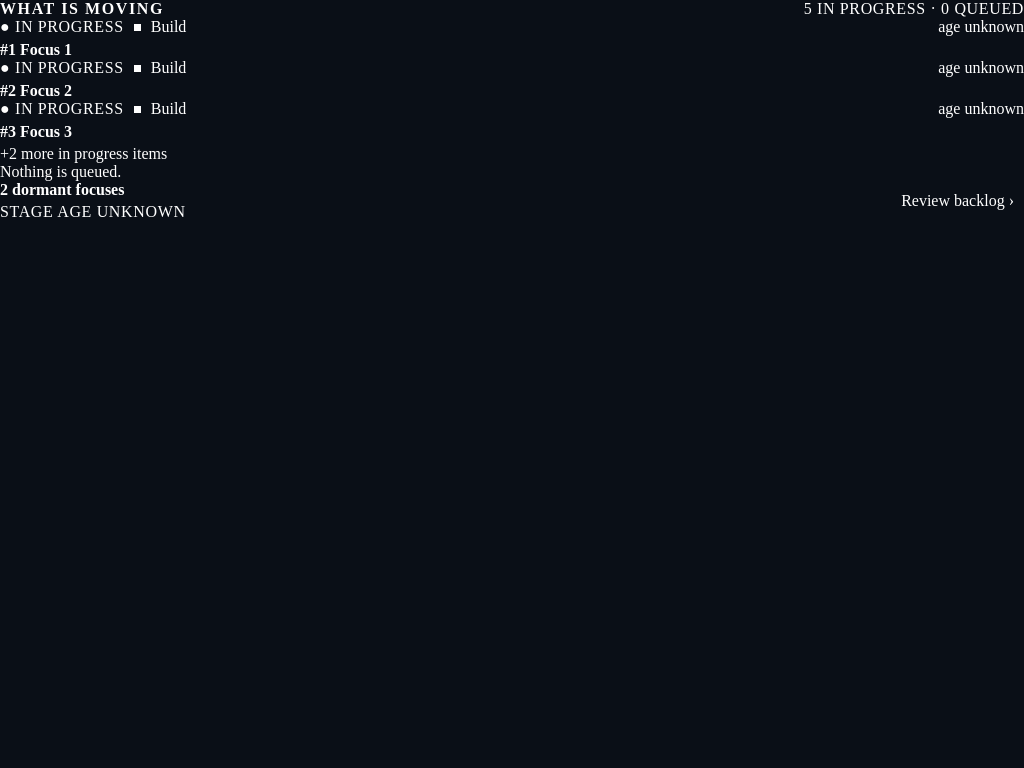
it: dashboard v2 Needs You and Moving bands › caps active rows, keeps unknown stage age honest, and opens the full dormant backlog
expect the text "#1 Focus 1" is shown 3 times: met, box [0,41,72,58]; [0,82,72,99]; [0,123,72,140]
expect the text "+2 more in progress items" is shown: met, box [0,145,167,162]
Click the button "Review backlog ›" at (958, 201), box [891,185,1023,217]
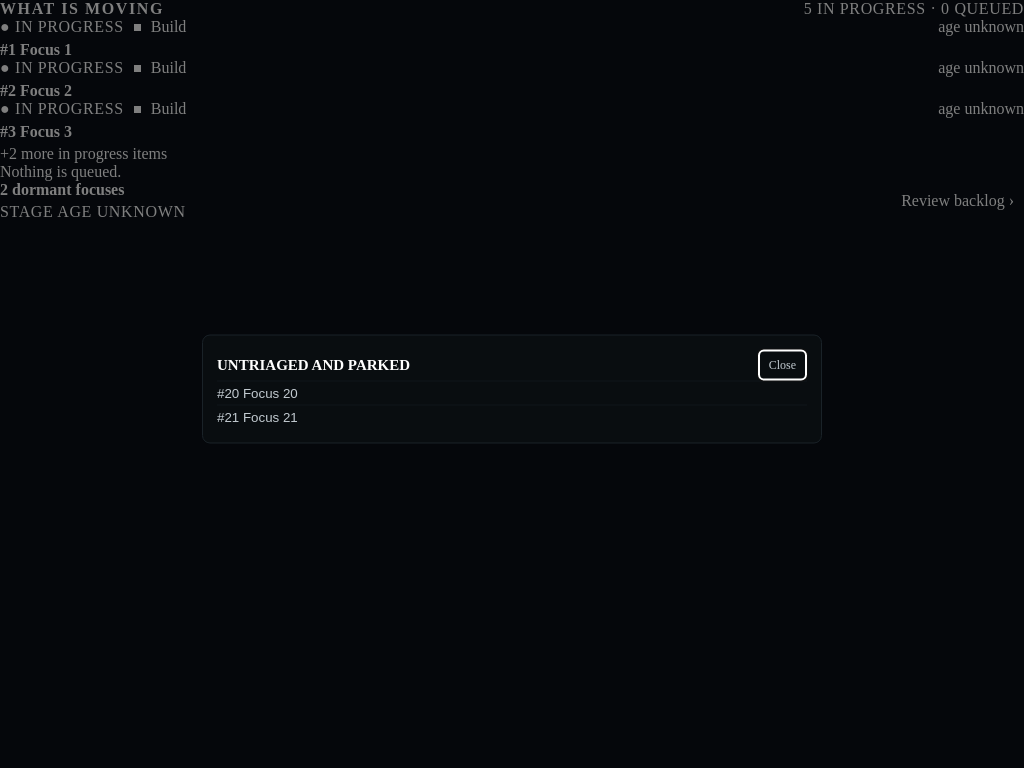
expect the dialog with test id "dashboard-dormant-sheet" is shown: met, box [202,324,822,444]
expect the button "#20 Focus 20" is shown: met, box [217,380,807,404]
expect the button "#21 Focus 21" is shown: met, box [217,404,807,428]
Press Escape
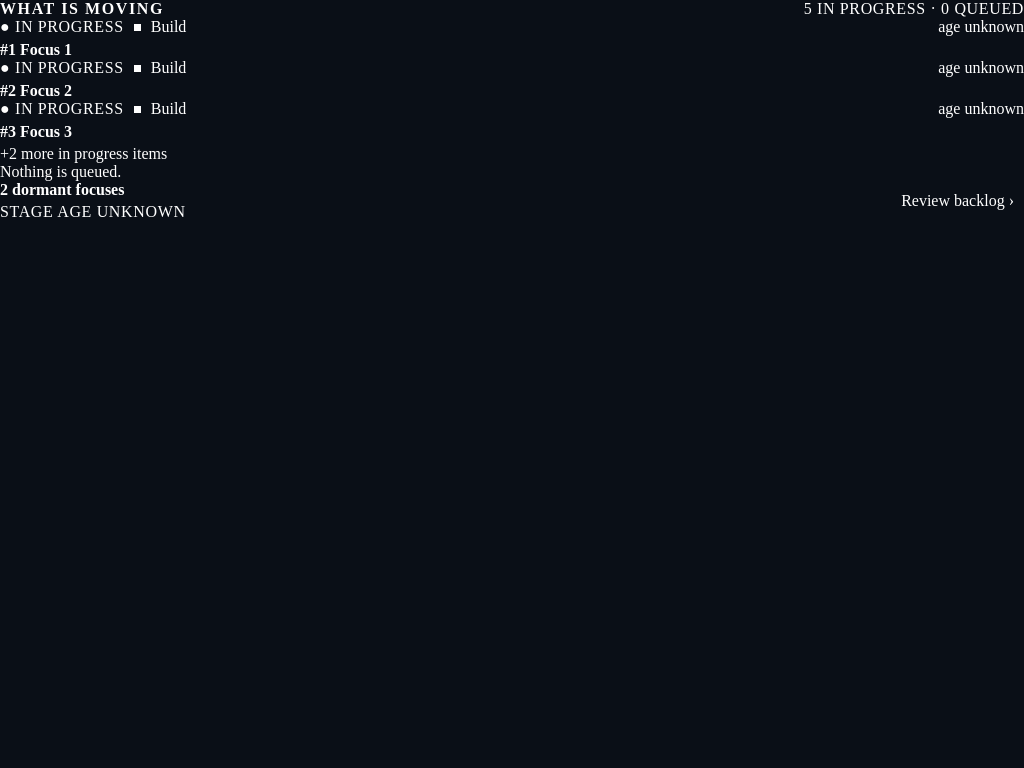
expect the dialog with test id "dashboard-dormant-sheet" is gone: met
